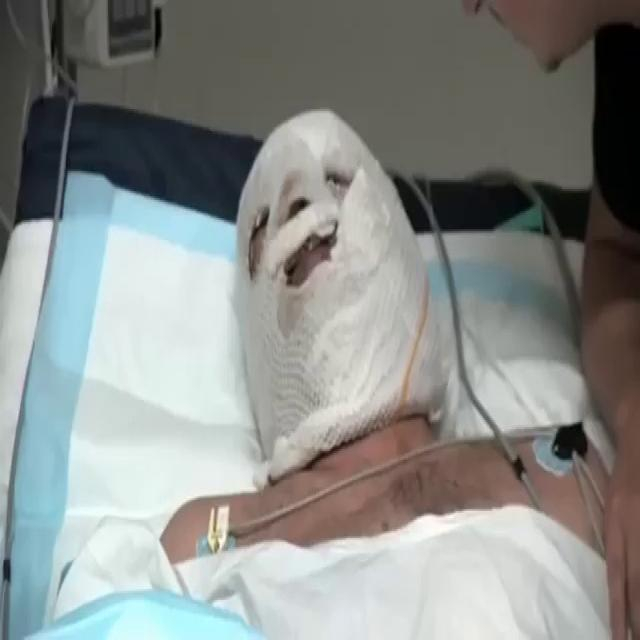monitor: (58, 0, 164, 69), (105, 0, 156, 56)
patient: (147, 107, 573, 640)
